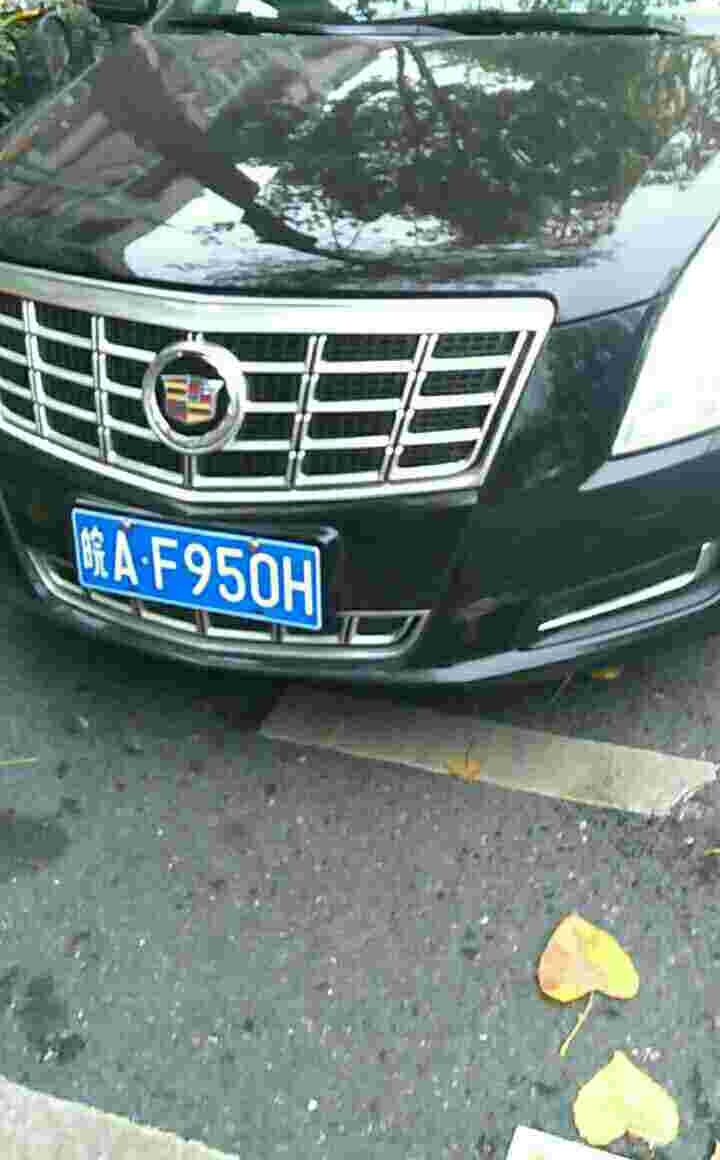license_plate: (69, 506, 332, 639)
